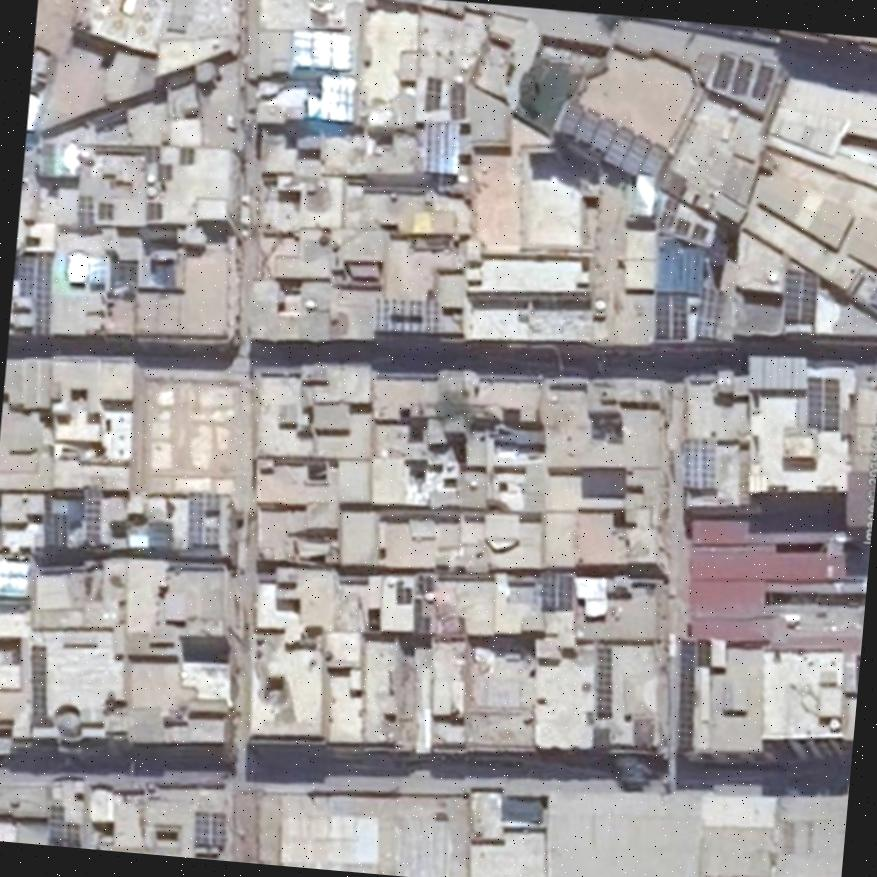Solarpanel: (556, 101, 671, 180), (374, 294, 439, 333), (292, 28, 350, 70), (675, 637, 694, 747), (184, 490, 216, 548), (424, 121, 458, 174), (783, 269, 817, 322), (31, 250, 52, 333), (806, 375, 837, 429), (681, 436, 712, 490), (694, 284, 724, 338), (321, 72, 354, 121), (654, 290, 687, 336), (40, 142, 77, 176), (540, 570, 572, 609), (81, 486, 100, 545), (30, 646, 45, 720), (191, 812, 223, 846), (593, 647, 609, 715), (0, 559, 27, 595), (729, 56, 752, 92), (17, 252, 34, 297), (711, 52, 733, 86), (63, 255, 87, 283), (48, 804, 64, 844), (751, 64, 770, 96), (448, 81, 464, 118), (424, 76, 438, 107), (77, 195, 89, 229), (695, 636, 709, 664), (178, 147, 194, 162), (146, 200, 160, 217), (95, 204, 110, 219), (159, 166, 167, 178)
